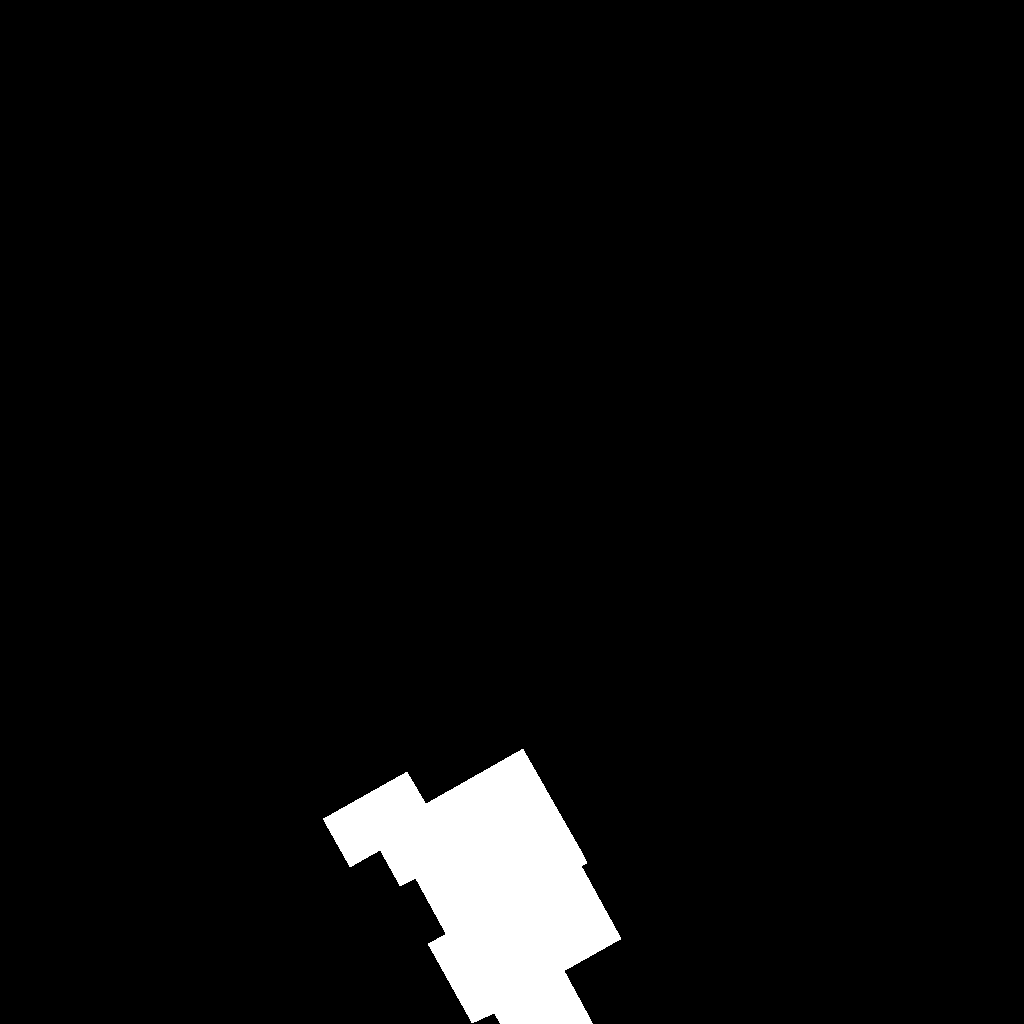building: (323, 749, 622, 1024)
